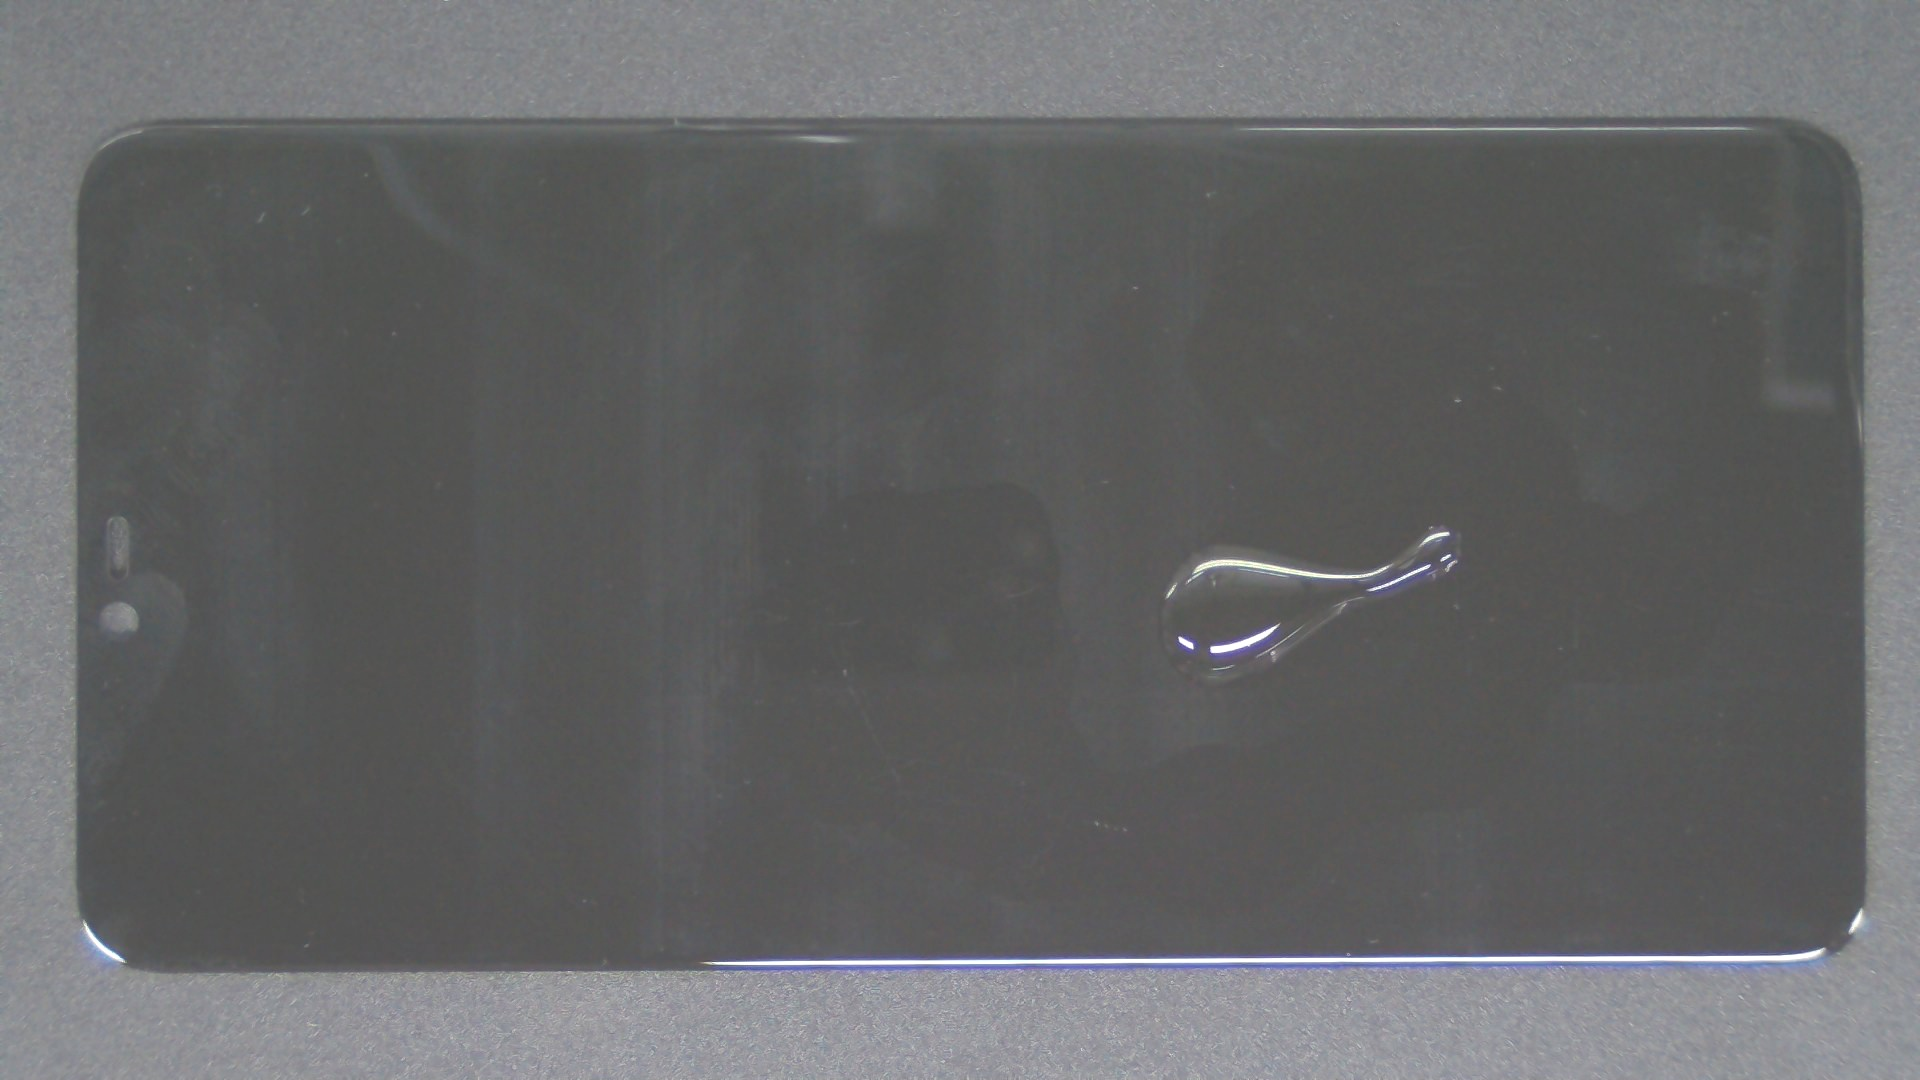oil: (720, 261, 1920, 786)
